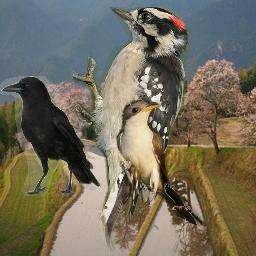Crow: (0, 76, 101, 196), (164, 183, 197, 226)
Cuckoo: (116, 100, 208, 233)
Woodpecker: (73, 7, 193, 251)
